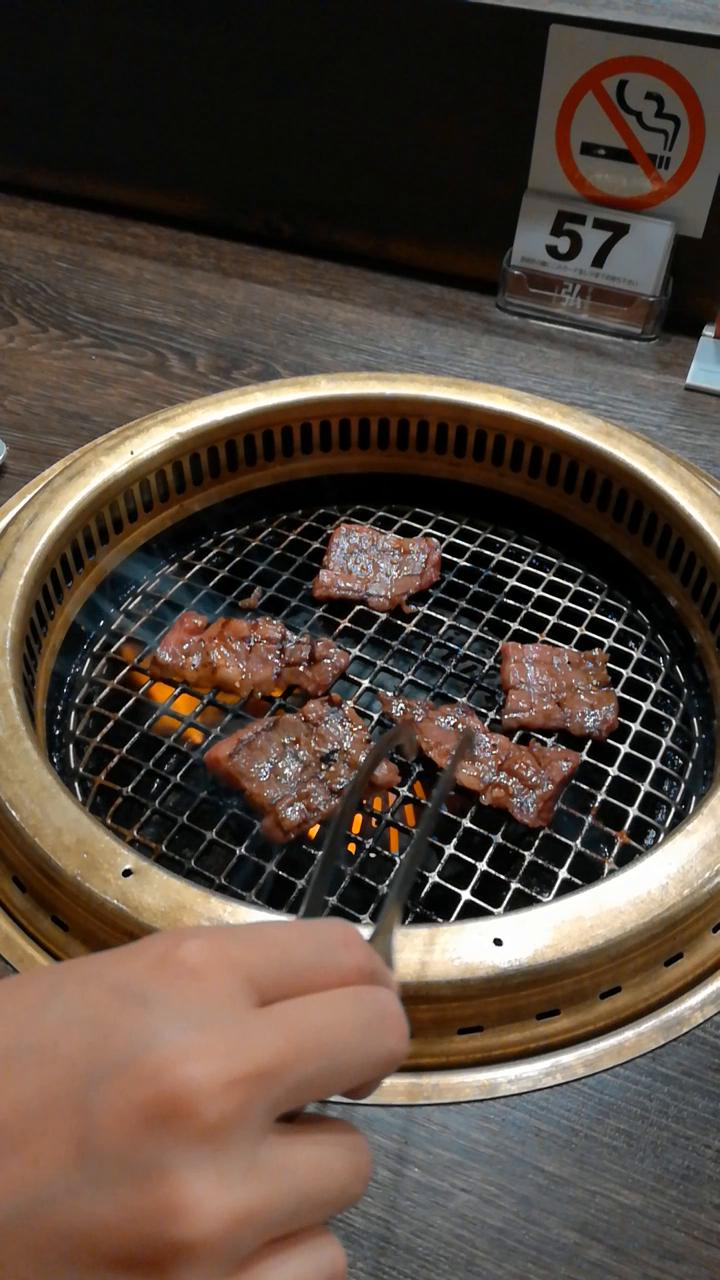cooked_beaf: (364, 655, 594, 833), (300, 498, 458, 624), (481, 620, 633, 748)
half_cooked_beaf: (191, 691, 394, 852), (136, 599, 372, 704)
